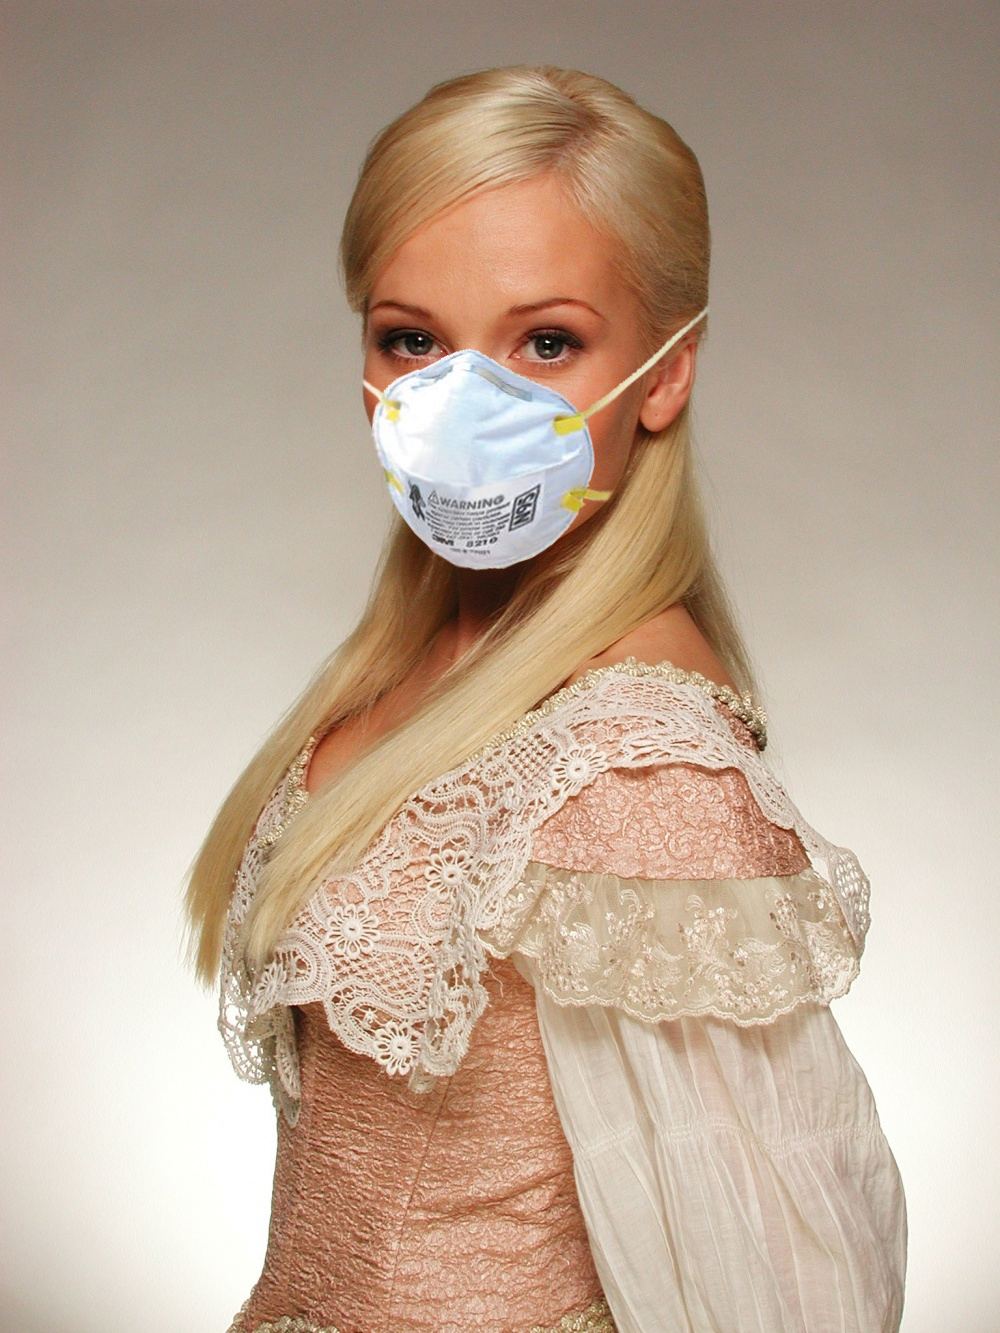n95: (336, 350, 607, 580)
